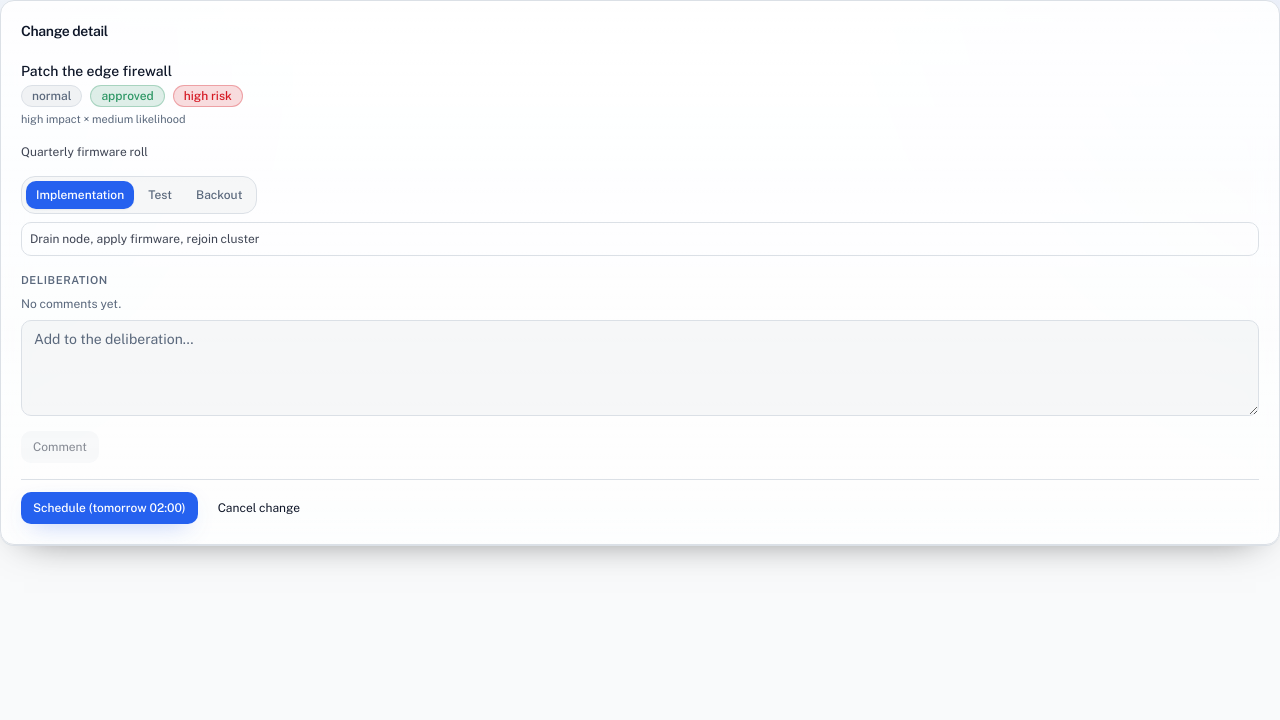
Scenario: ChangeDetail › reports an overlap with another scheduled change
Click the button "Schedule (tomorrow 02:00)": [109, 508] box x1=21 y1=492 x2=198 y2=524
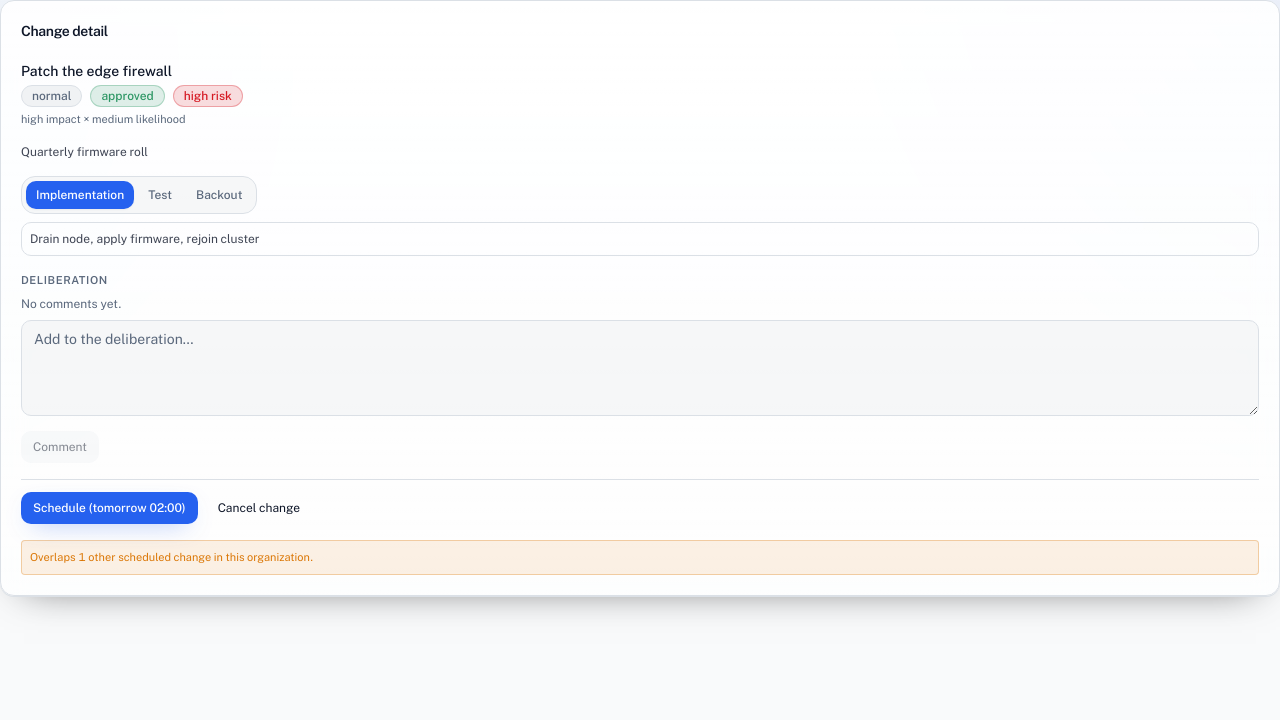
Expected: the message shows "Overlaps 1 other scheduled change", x1=21 y1=540 x2=1259 y2=574
